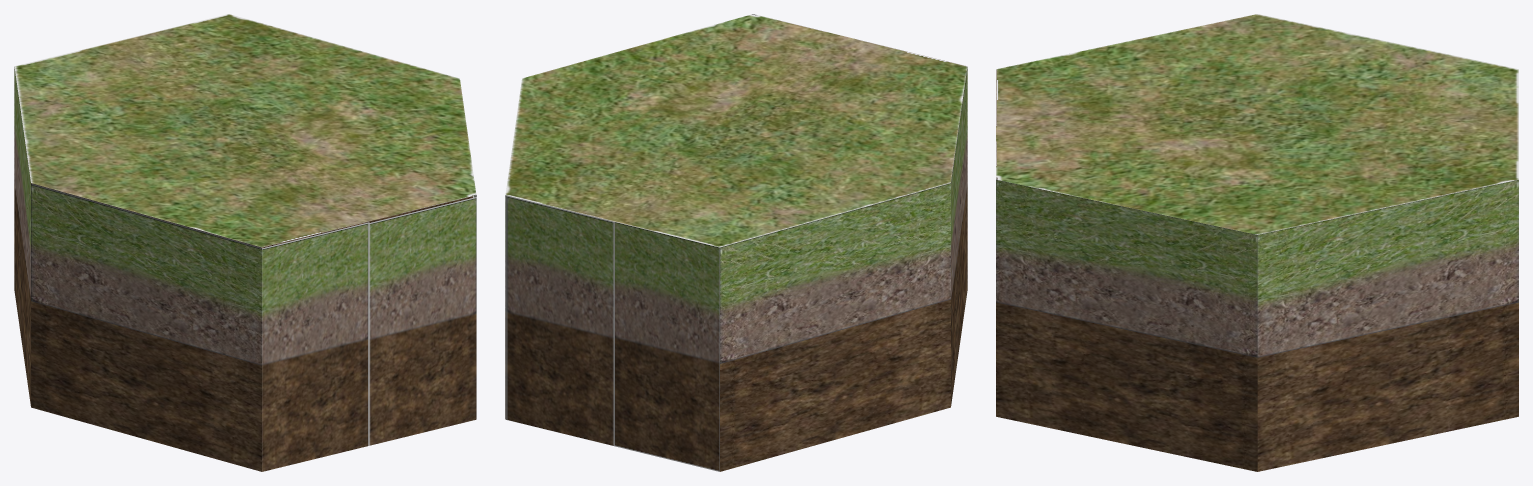
Rendered from hexTerain.obj.
3 renders of one model, left to right at view 1: azimuth 30°, elevation 25°; view 2: azimuth 150°, elevation 25°; view 3: azimuth 270°, elevation 25°, orthographic. The views are drawn at different scales.
Visible parts, largest first — view 1: Figure_Cube; view 2: Figure_Cube; view 3: Figure_Cube.
Part boxes in pixels (<box>): Figure_Cube: <box>14,14,476,471</box>; Figure_Cube: <box>505,14,967,471</box>; Figure_Cube: <box>996,14,1518,471</box>.
Size of the model in its own units: 0.2 by 0.1 by 0.2.
